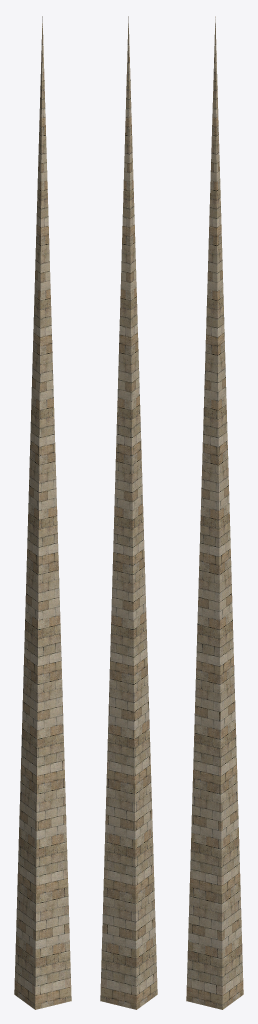
File: thm_nboo_thed_imprv_obelisk_s02_l2.fbx
3 renders of one model, left to right at view 1: azimuth 30°, elevation 25°; view 2: azimuth 150°, elevation 25°; view 3: azimuth 330°, elevation 25°, orthographic.
Visible parts, largest first — view 1: mesh_node; view 2: mesh_node; view 3: mesh_node.
Part boxes in pixels (x1,y1,x2,y2): mesh_node: [14, 16, 71, 1009]; mesh_node: [100, 16, 157, 1009]; mesh_node: [186, 16, 243, 1009].
Bounding box in the file's own units: 0.8536 × 22.09 × 0.8536.
1 material, 1 textured.
